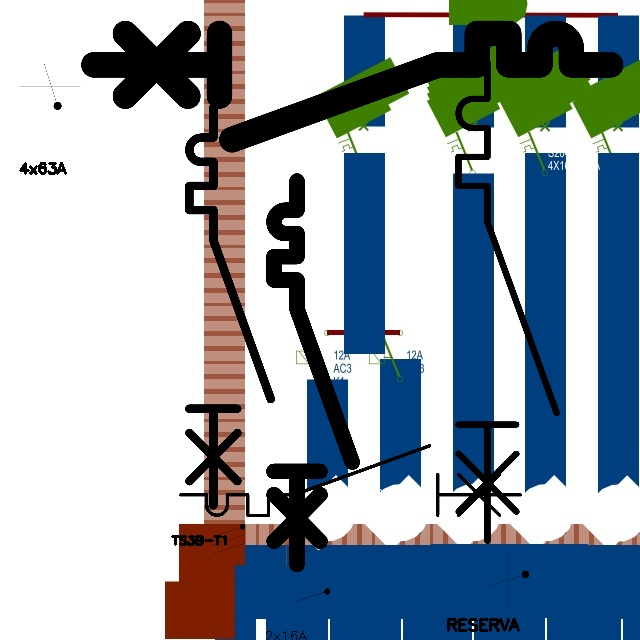interruptor_termomagnetico: (80, 20, 623, 153), (446, 50, 569, 553), (179, 97, 281, 516), (264, 171, 362, 574), (172, 437, 528, 524)
